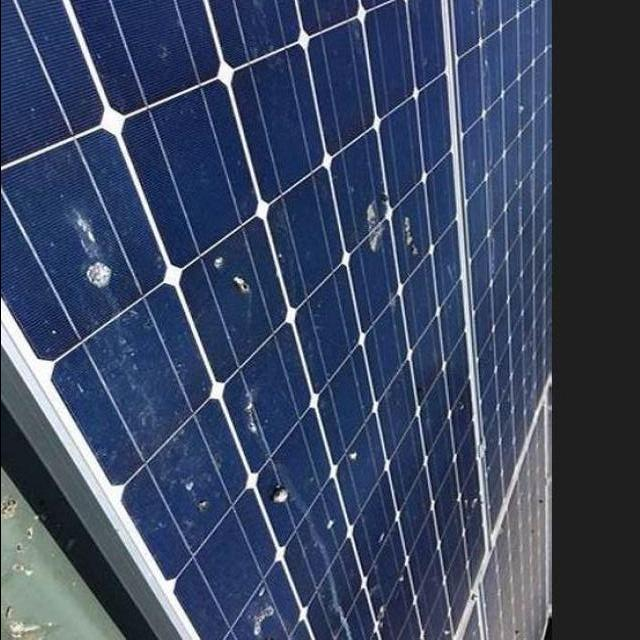soiled: (0, 2, 484, 640)
